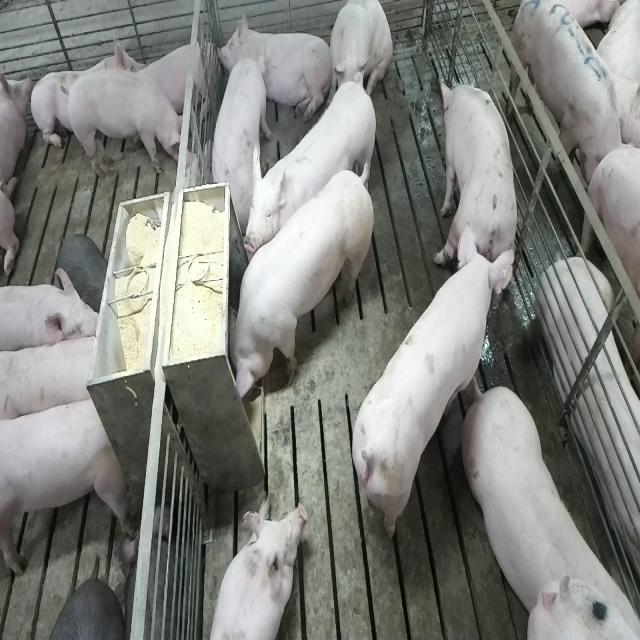Feeding: (218, 162, 370, 408)
Sitting: (328, 1, 392, 105)
Standing: (347, 244, 511, 550), (457, 377, 634, 632), (244, 78, 382, 268), (1, 388, 133, 582), (510, 0, 628, 209), (434, 72, 518, 274), (65, 70, 189, 176), (2, 332, 104, 430), (212, 55, 270, 224), (1, 268, 102, 354)
Sternal_lying: (538, 136, 640, 588), (204, 498, 306, 640), (31, 30, 143, 156), (216, 14, 332, 124), (138, 34, 212, 120)
